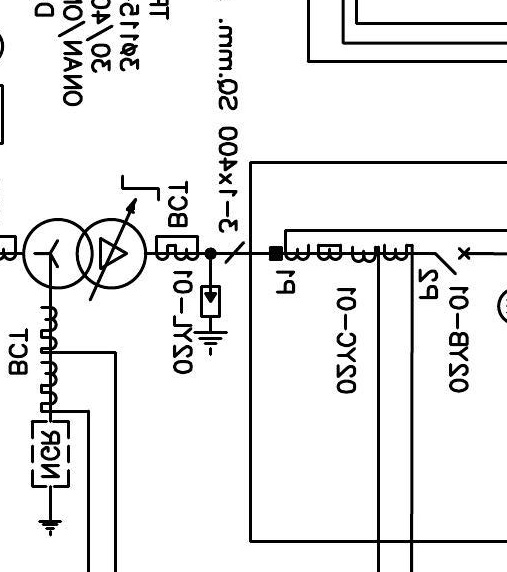11522_tx_dyn1: (21, 217, 148, 290)
115_breaker: (434, 246, 471, 276)
115_la: (192, 284, 229, 357)
NGR_future: (30, 419, 71, 537)
